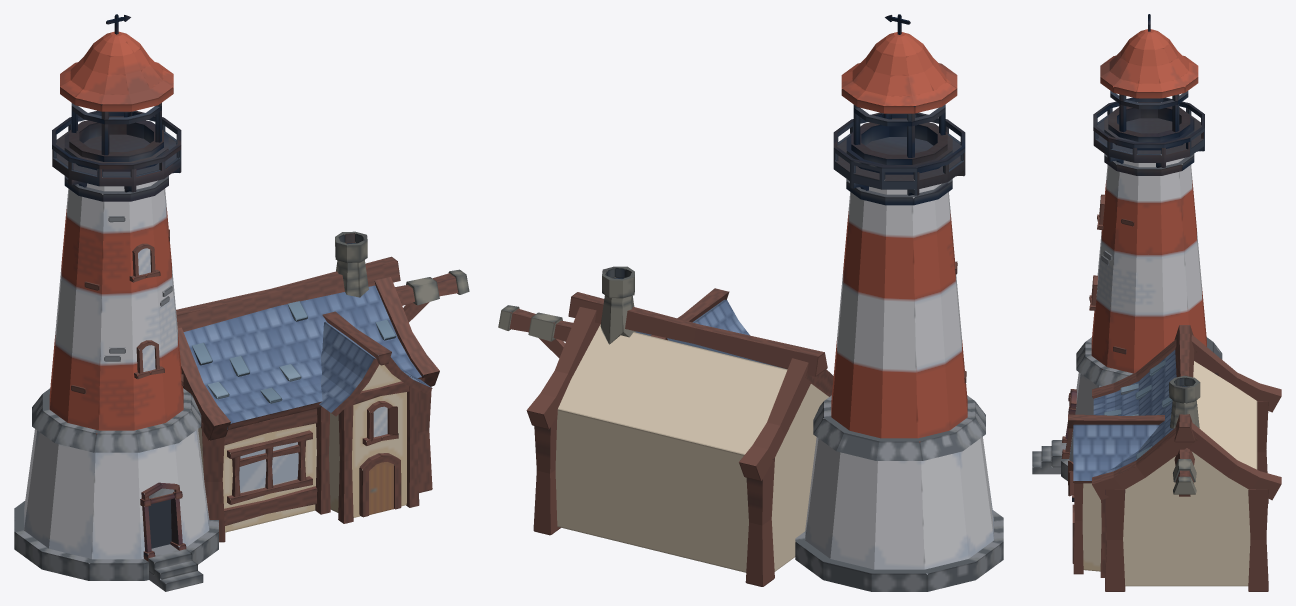
The model's file is lighthouse (3).fbx.
The picture shows the model from 3 angles, left to right: view 1: azimuth 30°, elevation 25°; view 2: azimuth 150°, elevation 25°; view 3: azimuth 270°, elevation 25°; orthographic projection. The views are drawn at different scales.
Parts seen in each view (by area): view 1: pCylinder1, pCylinder12, pCube16, pCylinder8, pCylinder13, pCube12, pCube17, pCube25, pCylinder14, pCube28, pCylinder3, pCylinder6 (+24 smaller); view 2: pCube12, pCylinder1, pCylinder12, pCylinder8, pCylinder14, pCube17, pCylinder13, pCylinder3, group6, pCube52, pCube53, pCylinder6 (+11 smaller); view 3: pCylinder1, pCube12, pCylinder8, pCube28, pCube16, pCylinder3, pCube52, pCube15, group2, pCube14, group6, pCylinder6 (+17 smaller).
Boxes of the visible parts, x1,y1,x2,y2 form: pCylinder1: (49, 177, 183, 434); pCylinder12: (24, 411, 209, 563); pCube16: (183, 285, 425, 429); pCylinder8: (60, 31, 173, 111); pCylinder13: (32, 388, 201, 452); pCube12: (198, 423, 316, 532); pCube17: (176, 256, 400, 331); pCube25: (329, 364, 406, 517); pCylinder14: (14, 501, 218, 580); pCube28: (319, 322, 432, 416); pCylinder3: (52, 111, 181, 192); pCylinder6: (69, 116, 163, 161); pCube12: (555, 324, 828, 572); pCylinder1: (831, 180, 967, 442); pCylinder12: (805, 418, 993, 574); pCylinder8: (841, 32, 957, 113); pCylinder14: (795, 510, 1003, 591); pCube17: (568, 292, 827, 376); pCylinder13: (813, 395, 985, 460); pCylinder3: (833, 113, 965, 195); group6: (739, 358, 813, 480); pCube52: (526, 307, 600, 429); pCube53: (745, 458, 774, 586); pCylinder6: (851, 118, 947, 164); pCylinder1: (1091, 153, 1206, 373); pCube12: (1123, 361, 1257, 586); pCylinder8: (1100, 29, 1198, 98); pCube28: (1073, 424, 1159, 483); pCube16: (1093, 350, 1176, 475); pCylinder3: (1093, 104, 1204, 167); pCube52: (1187, 422, 1281, 500); pCube15: (1092, 427, 1197, 500); group2: (1248, 489, 1268, 591); pCube14: (1105, 489, 1125, 591); group6: (1191, 335, 1281, 412); pCylinder6: (1108, 102, 1190, 141).
Bounding box in the file's own units: 936 × 1034 × 513.
Materials: 1 (1 with a texture image).
